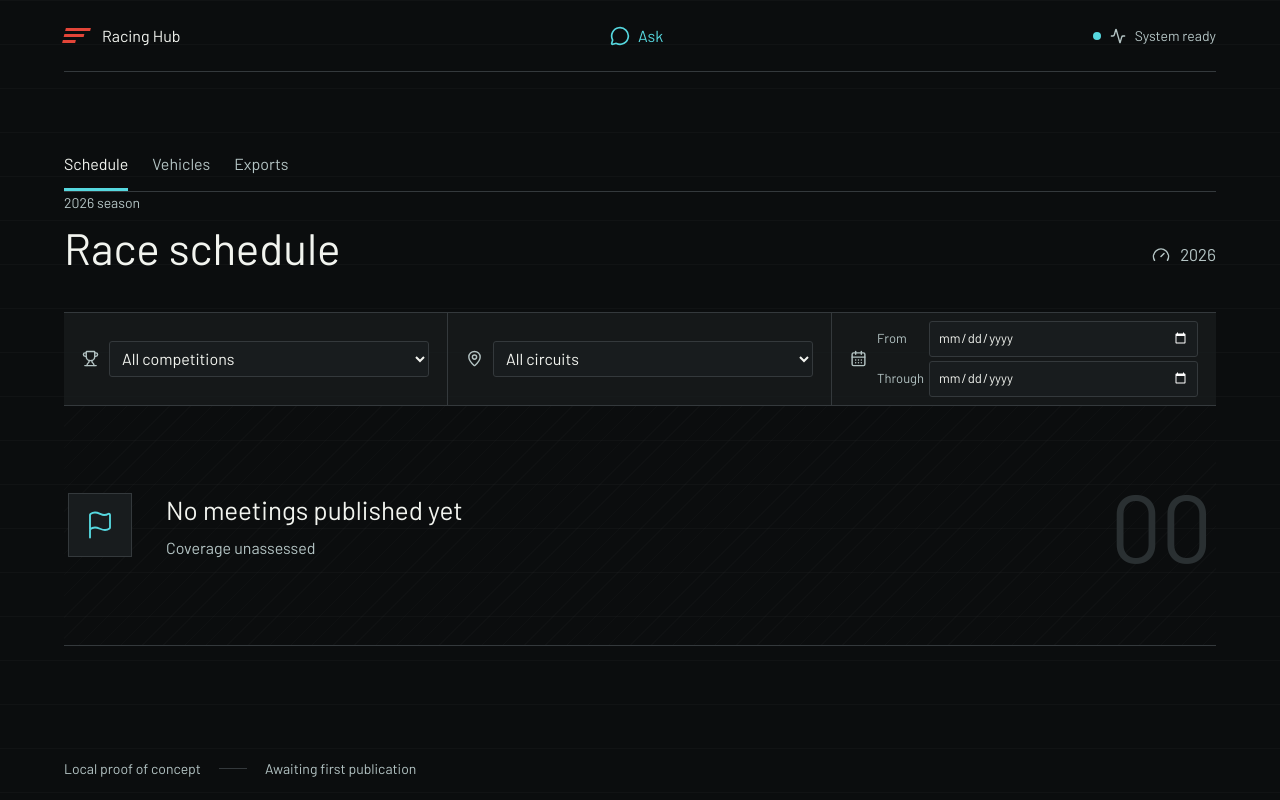
Scenario: opens vehicle details separately from schedule filters and retains field provenance
The width and height of the screenshot is (1280, 800).
expect the text "System ready" is shown: met, box [1135,25,1216,46]
Click the link "Vehicles" at (181, 164), box [152,154,210,173]
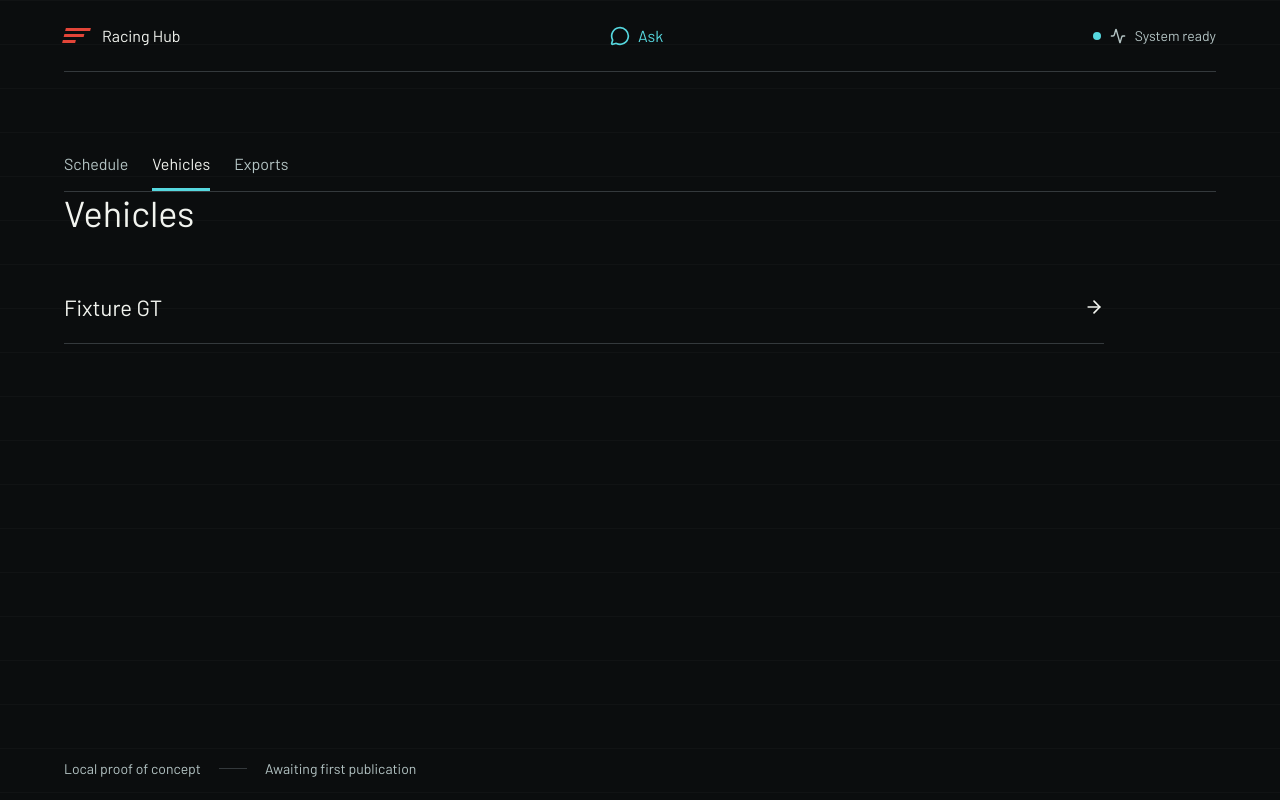
Click the link "Fixture GT" at (113, 307), box [64,294,1104,320]
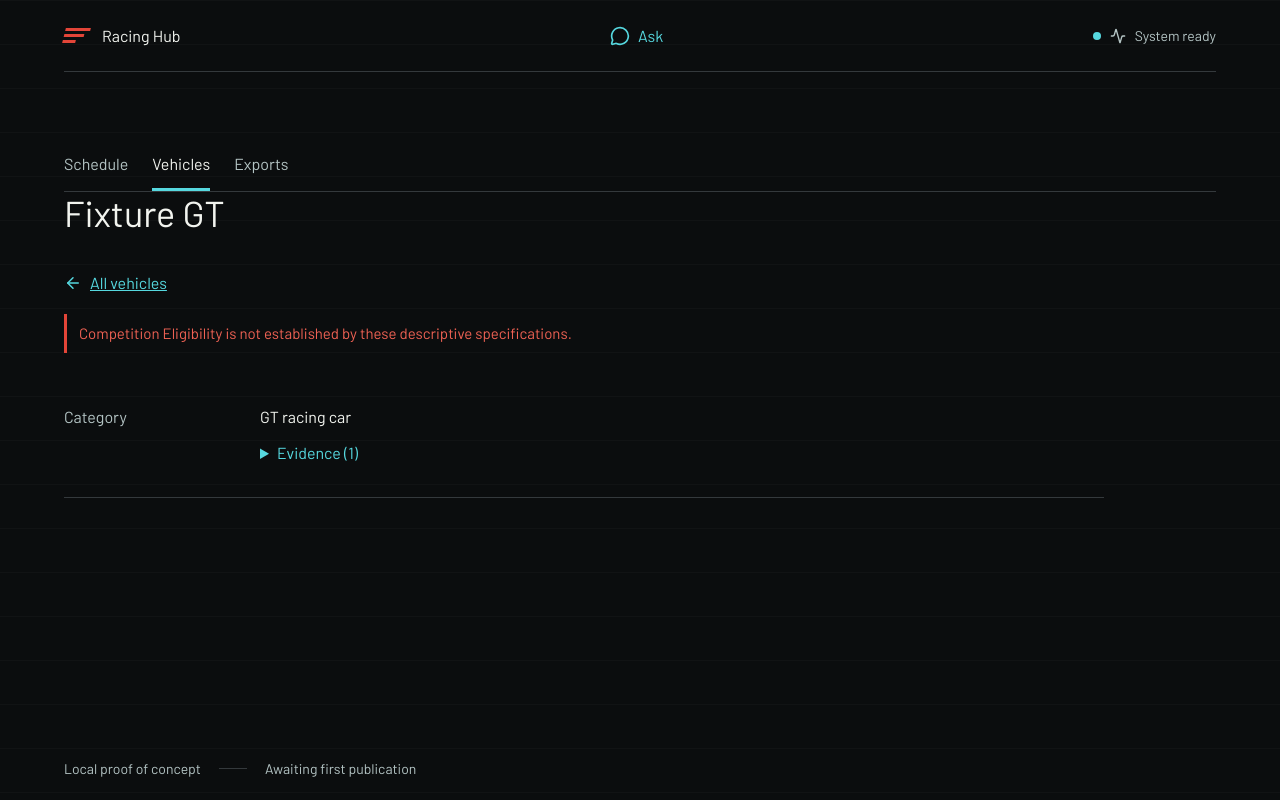
expect the heading "Fixture GT" is shown: met, box [64,192,225,233]
expect the text "Competition Eligibility is not established" is shown: met, box [79,324,572,342]
Click the heading "Evidence (1)" at (317, 452), box [277,443,358,462]
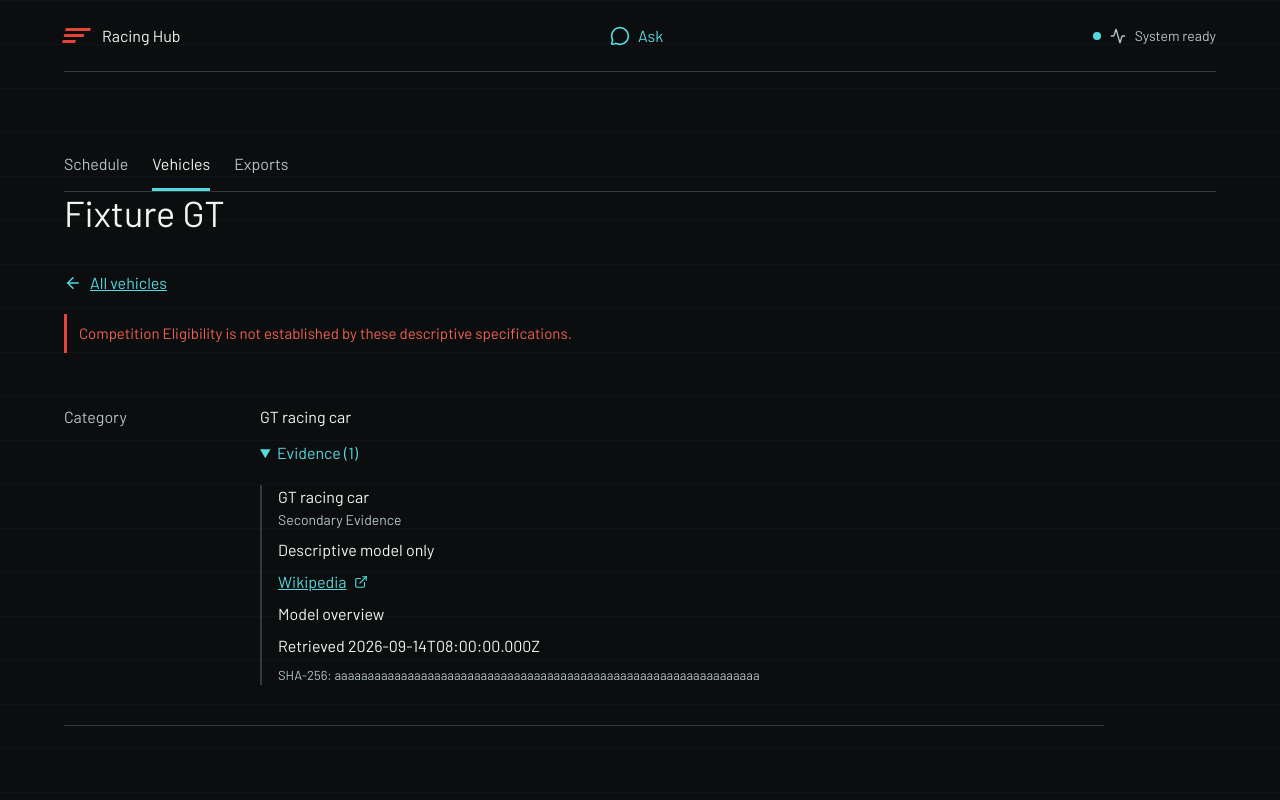
expect the text "Secondary Evidence" is shown: met, box [278,511,402,528]
expect the text "Descriptive model only" is shown: met, box [278,540,434,559]
Click the link "Schedule" at (96, 164), box [64,154,128,173]
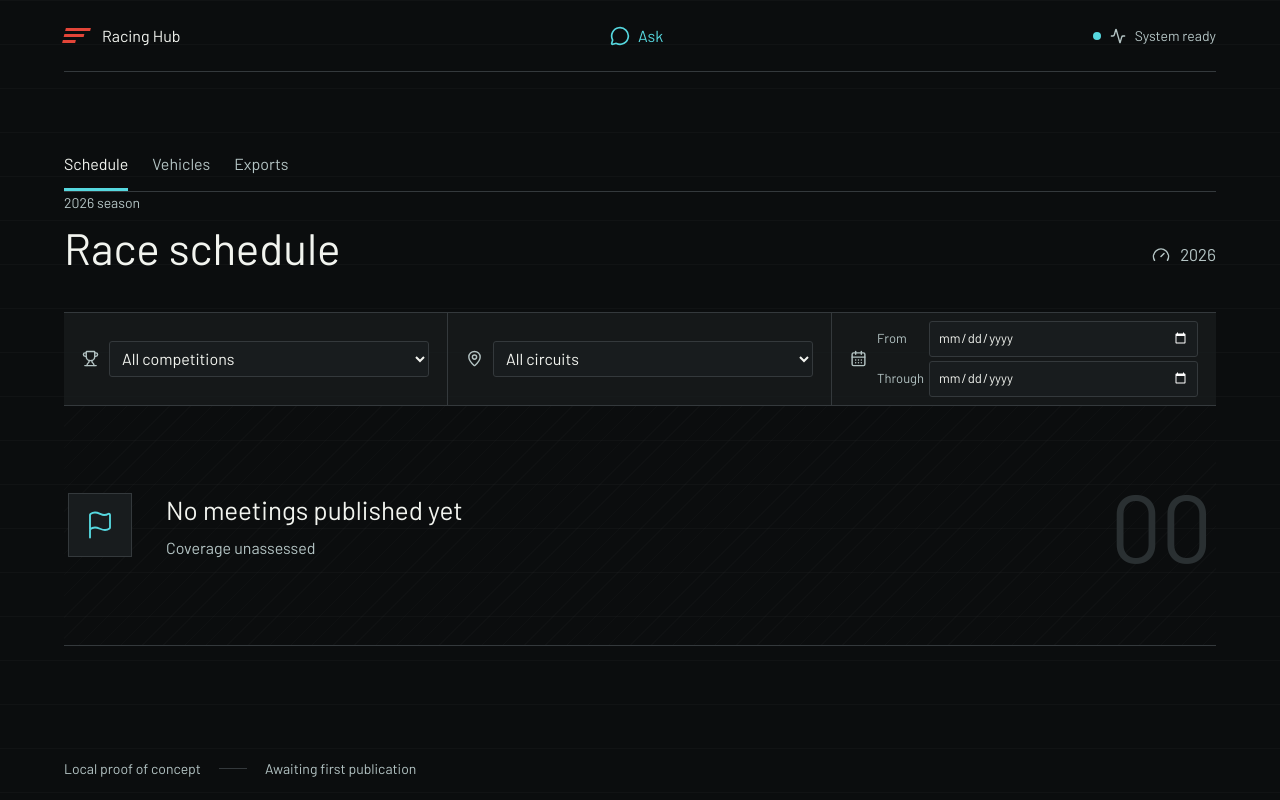
expect the element named "Schedule filters" is shown: met, box [64,312,1216,406]
